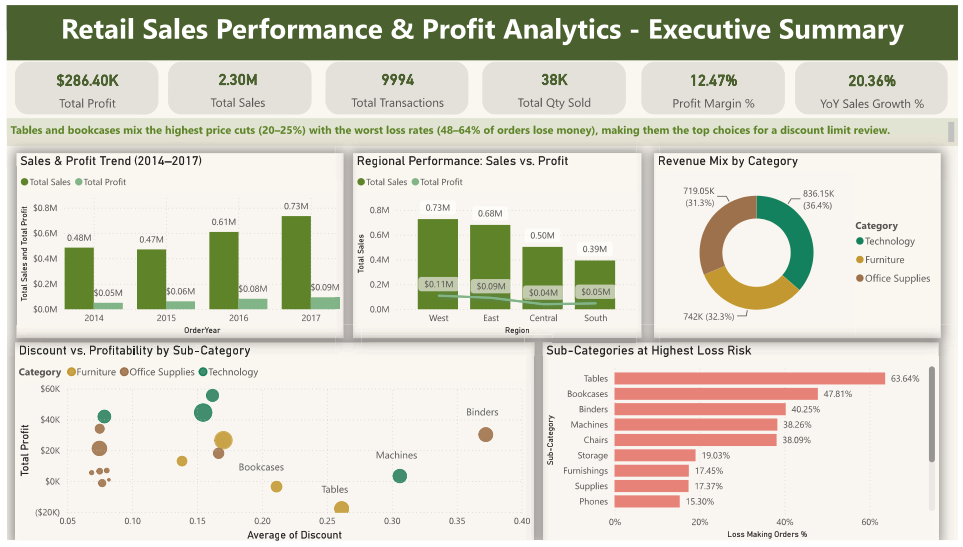

This screenshot's page, from the dashboard's own definition file:
{"tool":"powerbi","page":{"name":"Executive Summary","canvas":[1280,720],"ordinal":0},"visuals":[{"type":"scatterChart","title":"Discount vs. Profitability by Sub-Category","fields":{"X":["Fact-Superstore.Discount"],"Y":["Fact-Superstore.Total Profit"],"Category":["Dim-SubCategory.Sub-Category"],"Series":["Dim-Category.Category"],"Size":["Fact-Superstore.Total Sales"]},"box":[11.4,454.3,698.6,271.4],"z":0},{"type":"shape","box":[1061.4,75.7,204.3,71.4],"z":1000},{"type":"shape","box":[854.3,75.7,192.9,71.4],"z":2000},{"type":"shape","box":[640,75.7,192.9,71.4],"z":3000},{"type":"shape","box":[428.6,75.7,192.9,71.4],"z":4000},{"type":"shape","box":[217.1,75.7,192.9,71.4],"z":5000},{"type":"textbox","box":[0,0,1279.7,73.7],"z":6000},{"type":"shape","box":[11.4,75.7,192.9,71.4],"z":7000},{"type":"card","fields":{"Values":["Fact-Superstore.Total Revenue"]},"box":[25.7,77.1,165.7,68.6],"z":8000},{"type":"card","fields":{"Values":["Fact-Superstore.Total Sales"]},"box":[231.4,77.1,160,67.1],"z":9000},{"type":"card","fields":{"Values":["Fact-Superstore.Total Qty Sold"]},"box":[657.1,74.3,160,72.9],"z":10000},{"type":"card","fields":{"Values":["Fact-Superstore.Total Transactions"]},"box":[445.7,77.1,160,67.1],"z":11000},{"type":"card","fields":{"Values":["Fact-Superstore.YoY Sales Growth %"]},"box":[1078.6,77.1,171.4,70],"z":12000},{"type":"card","fields":{"Values":["Fact-Superstore.Profit Margin"]},"box":[871.4,75.7,160,71.4],"z":13000},{"type":"clusteredColumnChart","title":"Sales & Profit Trend (2014–2017)","fields":{"Category":["Fact-Superstore.OrderYear"],"Y":["Fact-Superstore.Total Sales","Fact-Superstore.Total Profit"]},"box":[12.9,199.3,440,248.6],"z":14000},{"type":"donutChart","title":"Revenue Mix by Category","fields":{"Category":["Dim-Category.Category"],"Y":["Fact-Superstore.Total Sales"]},"box":[871.4,199.3,385.7,248.6],"z":15000},{"type":"lineClusteredColumnComboChart","title":"Regional Performance: Sales vs. Profit","fields":{"Category":["Dim-Region.Region"],"Y":["Fact-Superstore.Total Sales"],"Y2":["Fact-Superstore.Total Profit"]},"box":[465.7,199.3,388.6,248.6],"z":16000},{"type":"barChart","title":"Sub-Categories at Highest Loss Risk","fields":{"Category":["Dim-SubCategory.Sub-Category"],"Y":["Fact-Superstore.Loss Making Orders %"]},"box":[721.4,454.3,532.9,268.6],"z":17000},{"type":"textbox","box":[301.4,607.1,82.9,30],"z":18000},{"type":"textbox","box":[598.6,532.9,82.9,30],"z":19000},{"type":"textbox","box":[482.9,591.4,82.9,30],"z":20000},{"type":"textbox","box":[400,637.1,82.9,30],"z":21000},{"type":"textbox","box":[0,151.7,1280,37],"z":22000}]}

Visuals, with their boxes in screenshot pixels (x1, y1, x2, y2), scaled from the page's 1280x720 canvas onto the 963x547 screenshot:
"Discount vs. Profitability by Sub-Category" scatterChart: <region>9, 345, 534, 546</region>
shape: <region>799, 58, 952, 112</region>
shape: <region>643, 58, 788, 112</region>
shape: <region>482, 58, 627, 112</region>
shape: <region>322, 58, 468, 112</region>
shape: <region>163, 58, 308, 112</region>
textbox: <region>0, 0, 962, 56</region>
shape: <region>9, 58, 154, 112</region>
card - Fact-Superstore.Total Revenue: <region>19, 59, 144, 111</region>
card - Fact-Superstore.Total Sales: <region>174, 59, 294, 110</region>
card - Fact-Superstore.Total Qty Sold: <region>494, 56, 615, 112</region>
card - Fact-Superstore.Total Transactions: <region>335, 59, 456, 110</region>
card - Fact-Superstore.YoY Sales Growth %: <region>811, 59, 940, 112</region>
card - Fact-Superstore.Profit Margin: <region>656, 58, 776, 112</region>
"Sales & Profit Trend (2014–2017)" clusteredColumnChart: <region>10, 151, 341, 340</region>
"Revenue Mix by Category" donutChart: <region>656, 151, 946, 340</region>
"Regional Performance: Sales vs. Profit" lineClusteredColumnComboChart: <region>350, 151, 643, 340</region>
"Sub-Categories at Highest Loss Risk" barChart: <region>543, 345, 944, 546</region>
textbox: <region>227, 461, 289, 484</region>
textbox: <region>450, 405, 513, 428</region>
textbox: <region>363, 449, 426, 472</region>
textbox: <region>301, 484, 363, 507</region>
textbox: <region>0, 115, 962, 143</region>
